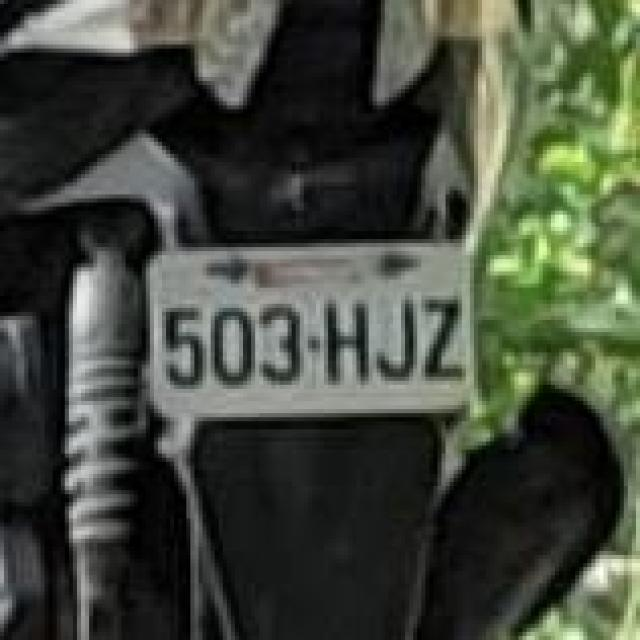W: (126, 235, 486, 425)
